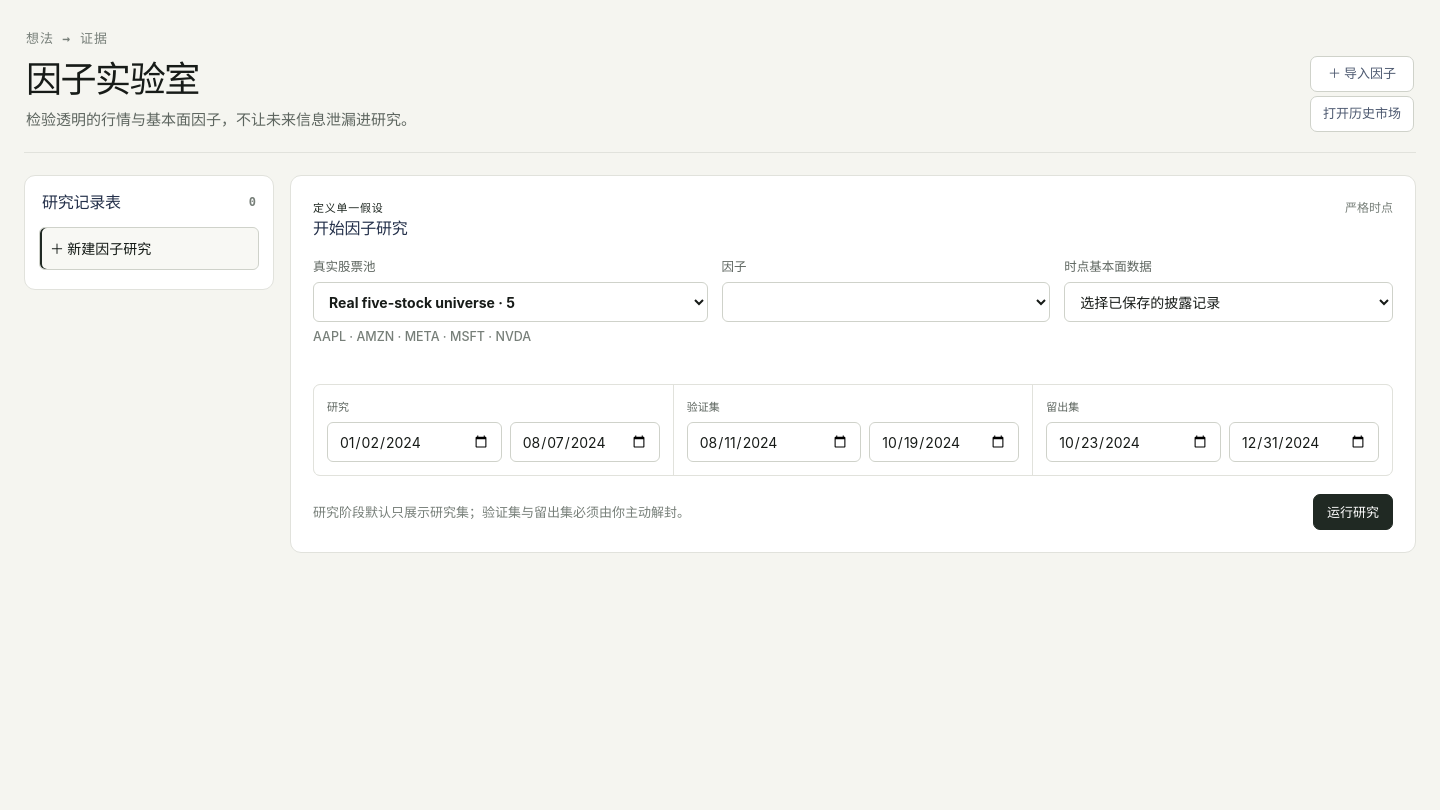
Scenario: Discover workspaces › starts factor research with backend catalog and three sealed periods
Expected: the heading "开始因子研究" is shown, [313, 218, 408, 238]
Expected: the text "研究" is shown, [327, 402, 349, 414]
Step 1. Click the button "＋ 导入因子" → point(1362, 74), box [1310, 56, 1414, 92]
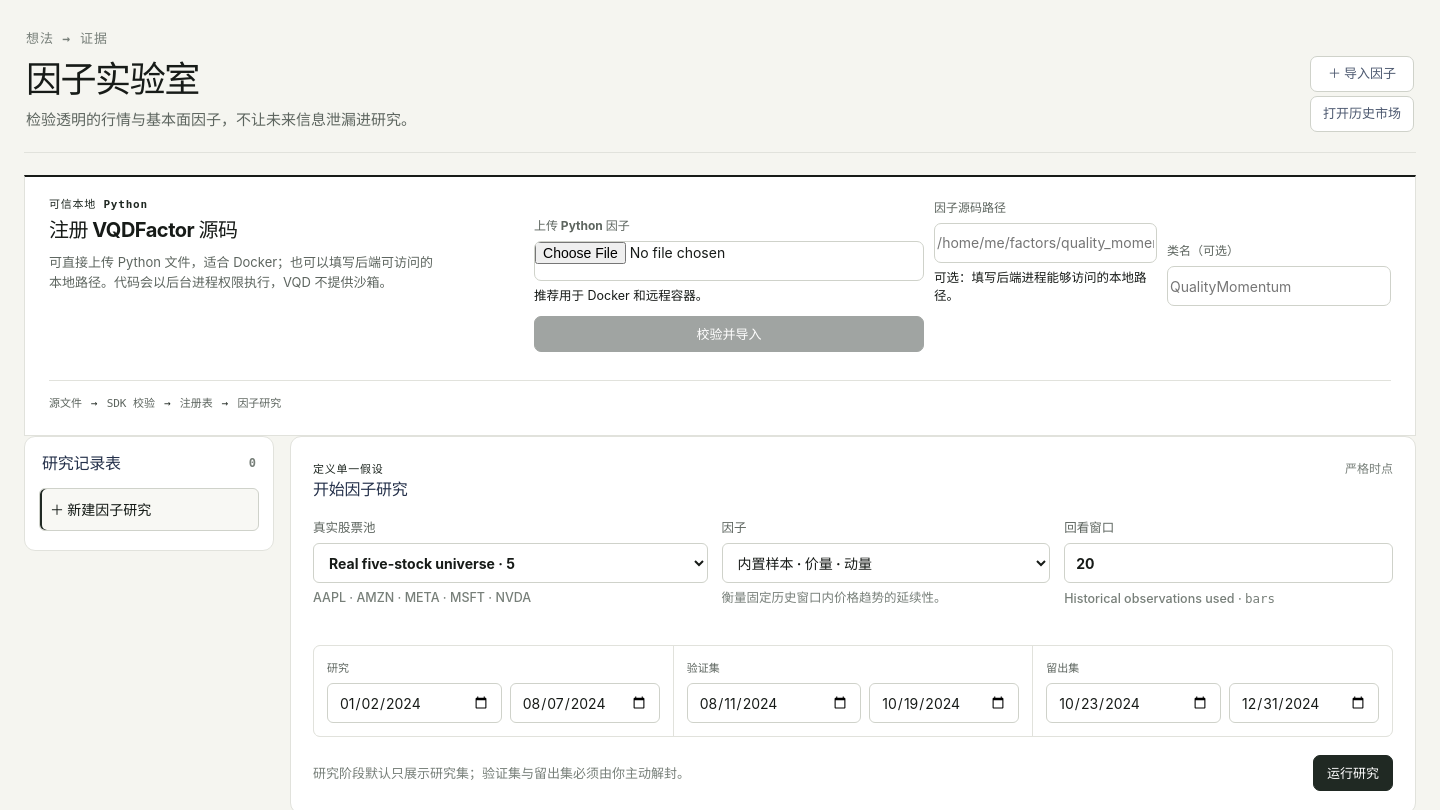
Expected: the heading "注册 VQDFactor 源码" is shown, [49, 218, 237, 242]
Expected: the text "VQD 不提供沙箱" is shown, [49, 254, 433, 290]
Expected: the text "源文件" is shown, [49, 396, 82, 413]
